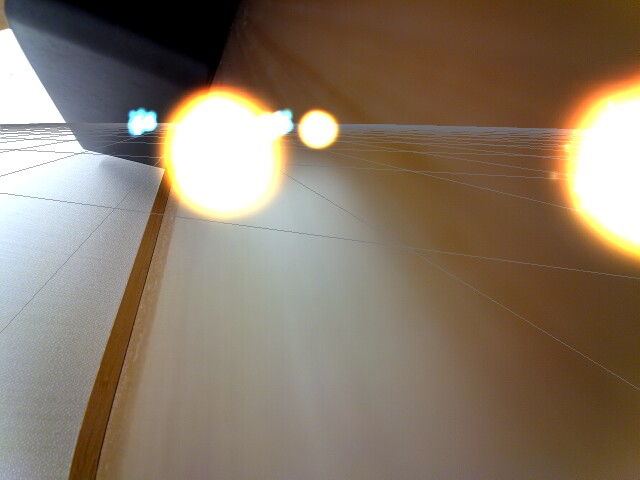firebig: (163, 81, 280, 224)
